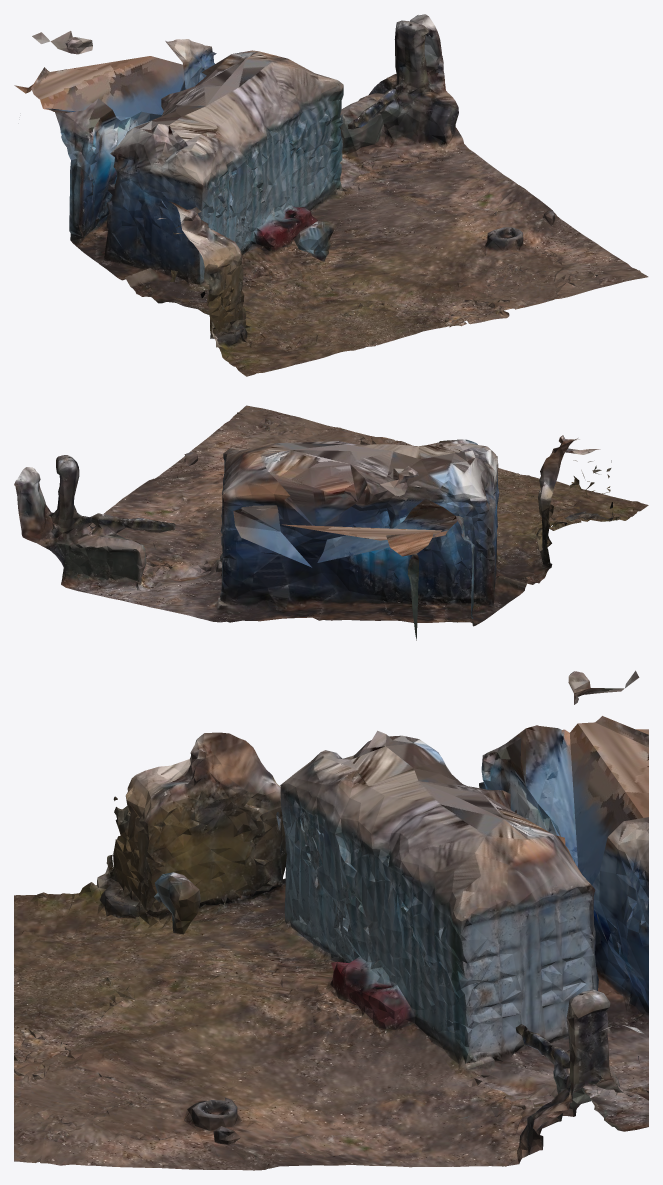
3 views of the same model, one above another, from view 1: azimuth 30°, elevation 25°; view 2: azimuth 150°, elevation 25°; view 3: azimuth 270°, elevation 25° (orthographic). The views are drawn at different scales.
Size of the model in its own units: 10.44 by 4.64 by 10.44.
Materials: 5 (5 with a texture image).
